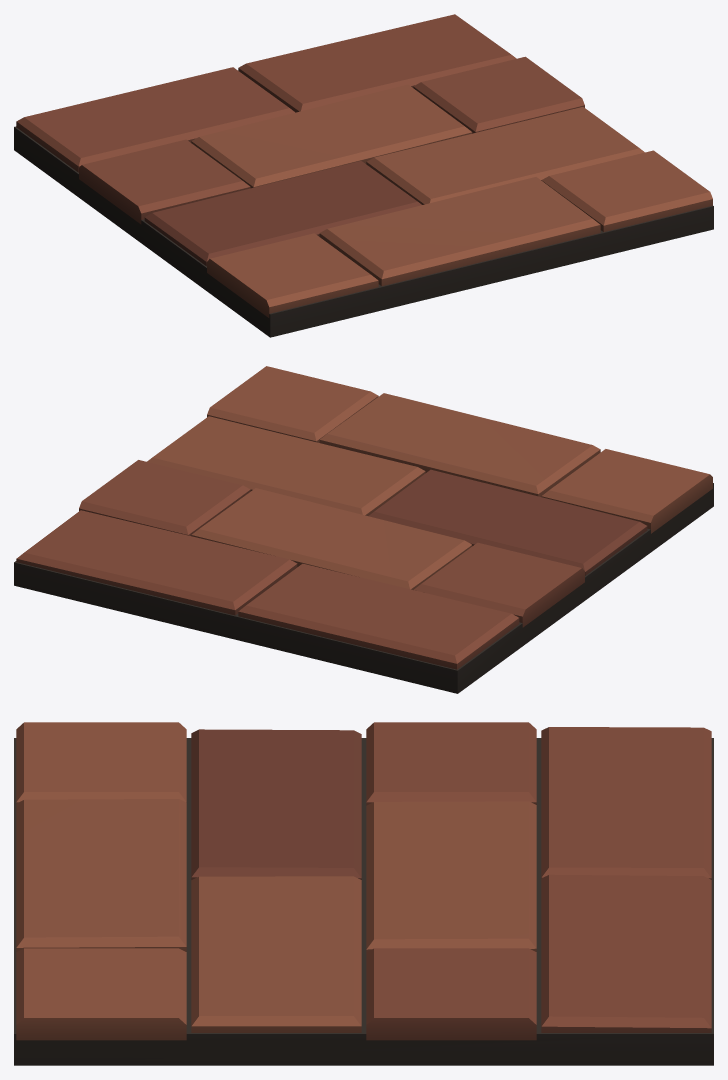
The model's file is floor_bricks_small_D.glb.
3 renders of one model, top to bottom at view 1: azimuth 30°, elevation 25°; view 2: azimuth 150°, elevation 25°; view 3: azimuth 270°, elevation 25°, orthographic. The views are drawn at different scales.
Parts seen in each view (by area): view 1: Item; view 2: Item; view 3: Item.
Part boxes in pixels (<box>): Item: <box>14,14,713,337</box>; Item: <box>14,366,713,693</box>; Item: <box>14,722,713,1065</box>.
Size of the model in its own units: 2 by 0.16 by 2.
Materials: 1 (1 with a texture image).
